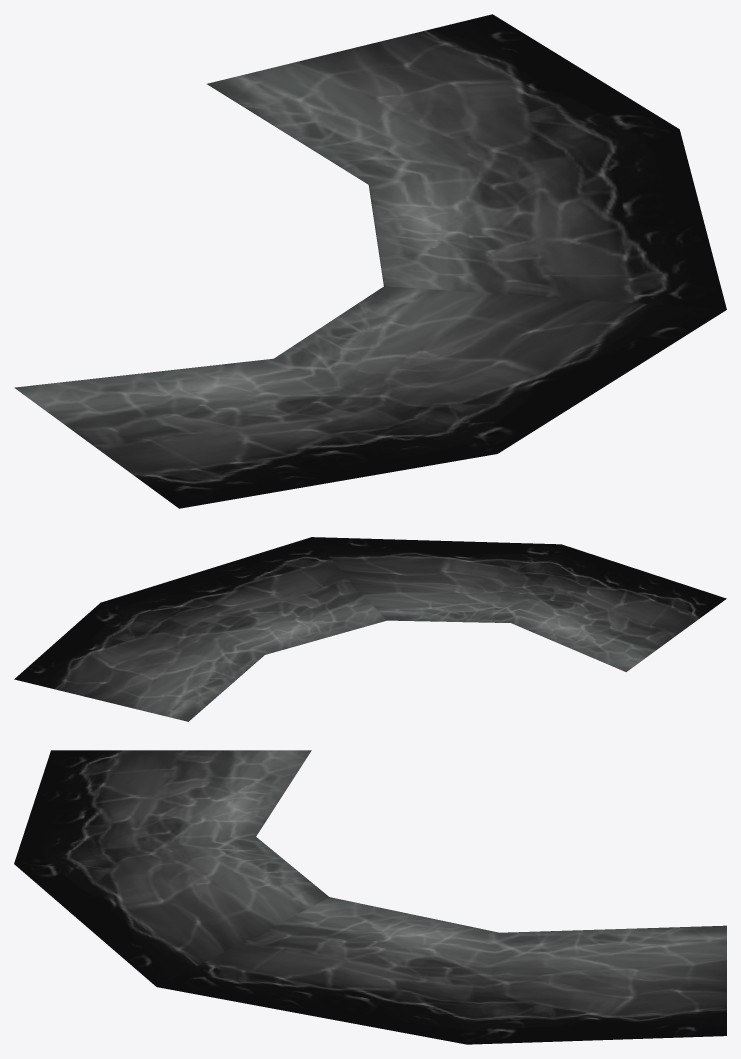
The model's file is wavewallconvex.fbx.
3 renders of one model, top to bottom at view 1: azimuth 30°, elevation 25°; view 2: azimuth 150°, elevation 25°; view 3: azimuth 270°, elevation 25°, orthographic. The views are drawn at different scales.
Visible parts, largest first — view 1: obj0.067; view 2: obj0.067; view 3: obj0.067.
Part boxes in pixels (<box>): obj0.067: <box>14,14,726,508</box>; obj0.067: <box>14,537,726,721</box>; obj0.067: <box>14,750,726,1044</box>.
Bounding box in the file's own units: 5.32 × 0.001 × 5.44.
